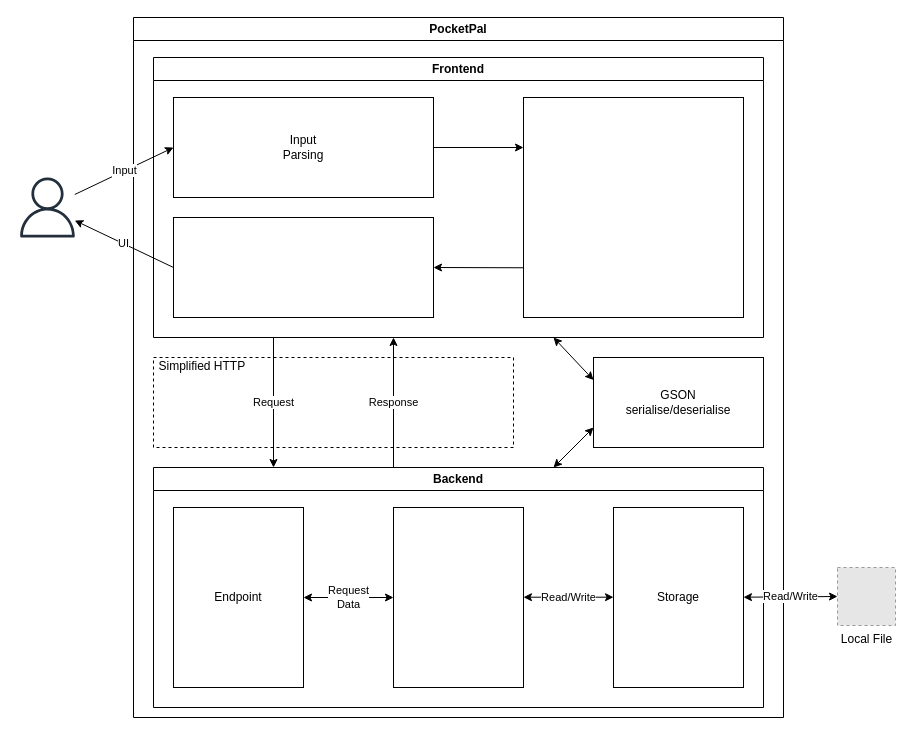
Image size: 913x735. Some labels were removed from this diagram. Grey dashed boxes stand in for pictures. The shapes that lost their labels are listed below. From the top down, each one's centre as x and y in pixels, then its label:
At [47,207]: "User".
At [633,207]: "Command Execution".
At [303,267]: "CLI-based User Interface".
At [458,597]: "EntryLog".
